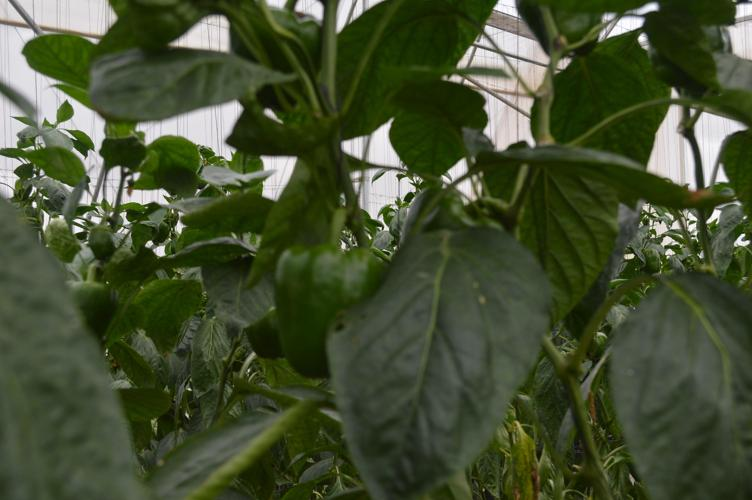BellPepper: (273, 234, 396, 389), (59, 269, 119, 337)
